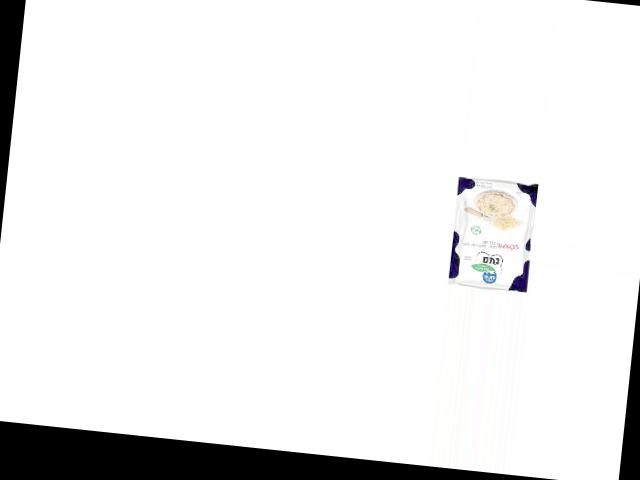cheese: (446, 173, 541, 293)
